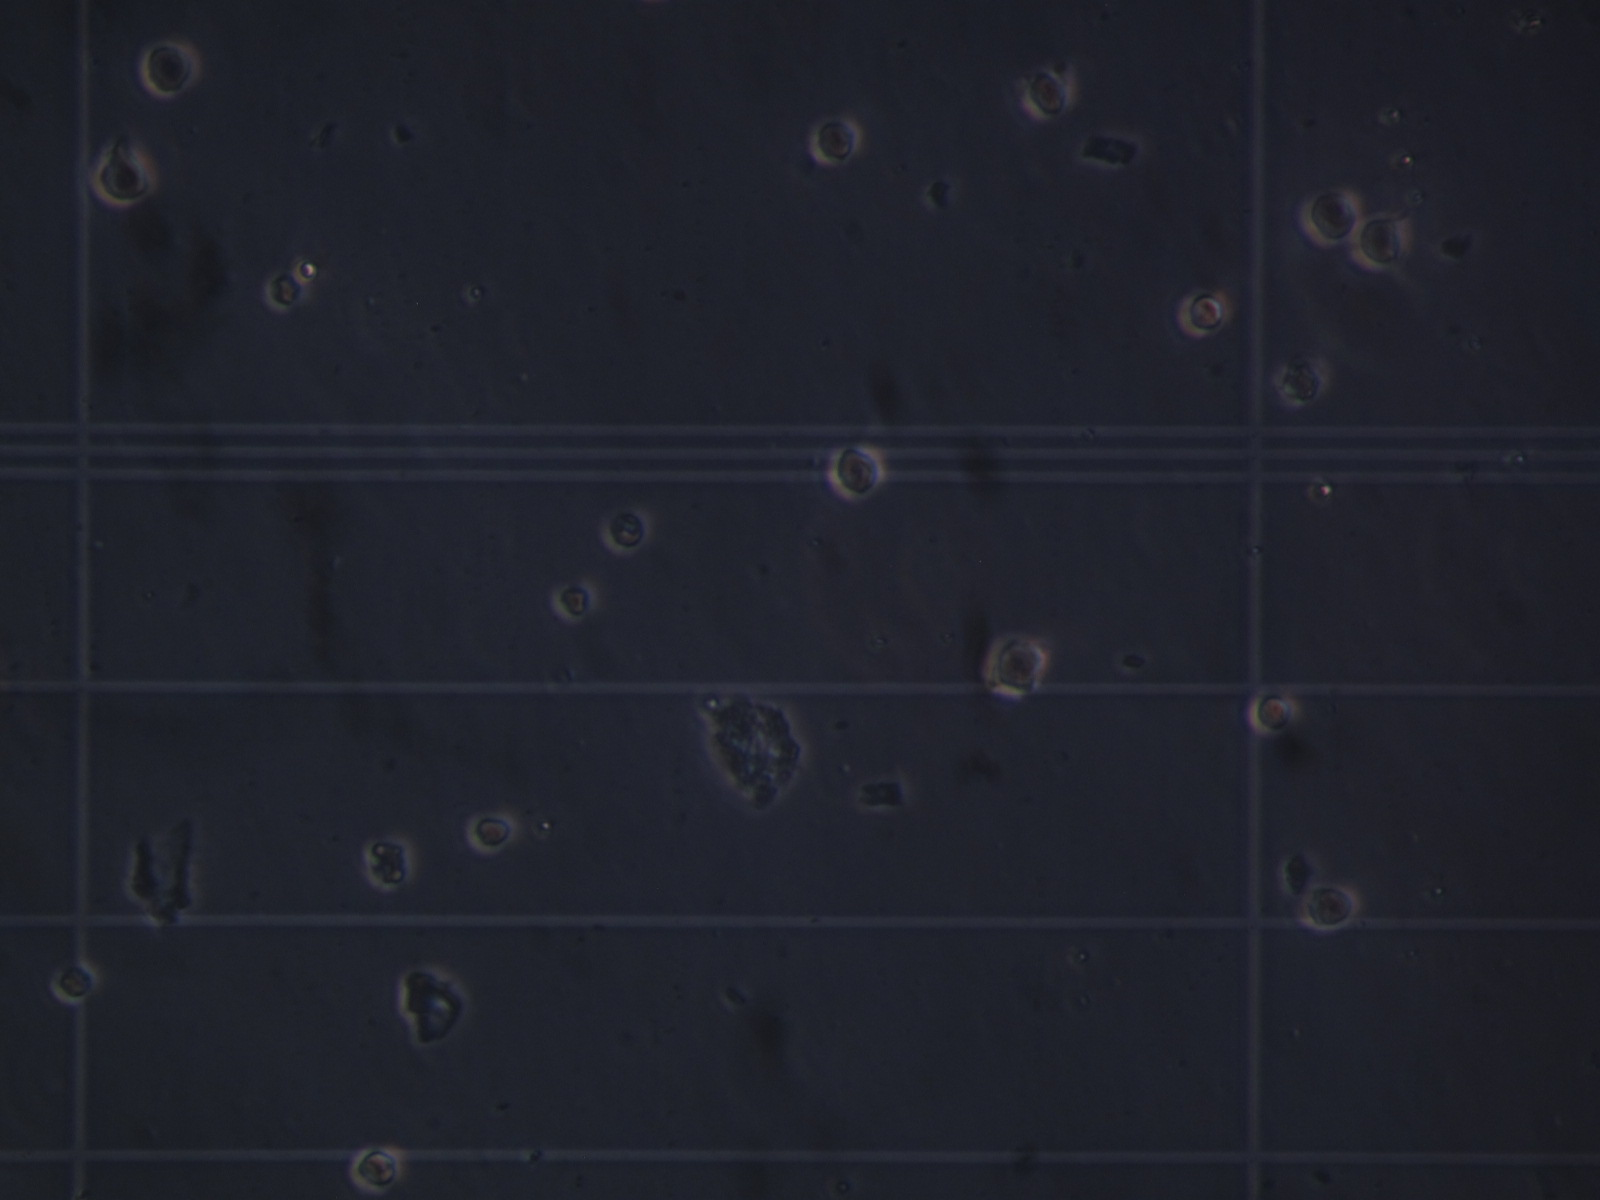hemo: (84, 145, 157, 208), (1296, 185, 1364, 250), (986, 632, 1048, 701), (1348, 211, 1411, 275), (139, 37, 202, 100), (825, 439, 884, 504), (1018, 62, 1078, 124), (363, 834, 416, 894), (808, 112, 862, 169), (1303, 879, 1361, 932), (346, 1146, 404, 1196), (1272, 358, 1330, 408), (1247, 684, 1301, 737), (1179, 289, 1232, 342), (598, 507, 653, 558), (547, 576, 598, 626), (464, 809, 517, 858), (50, 959, 100, 1005), (261, 268, 309, 313)
